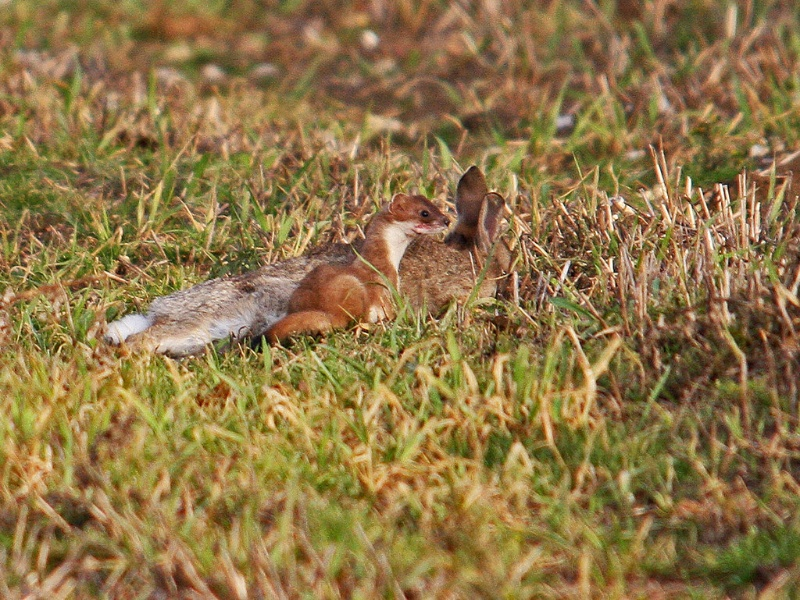minkish: (254, 193, 447, 355)
